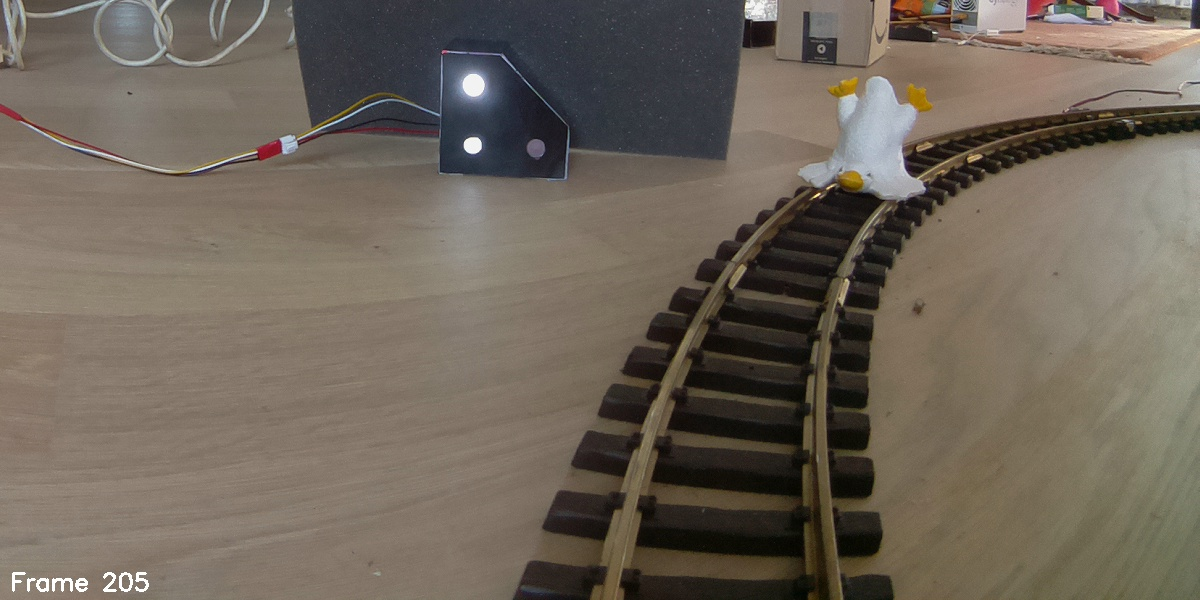Ente: (797, 70, 931, 205)
Fahrt: (438, 41, 570, 181)
